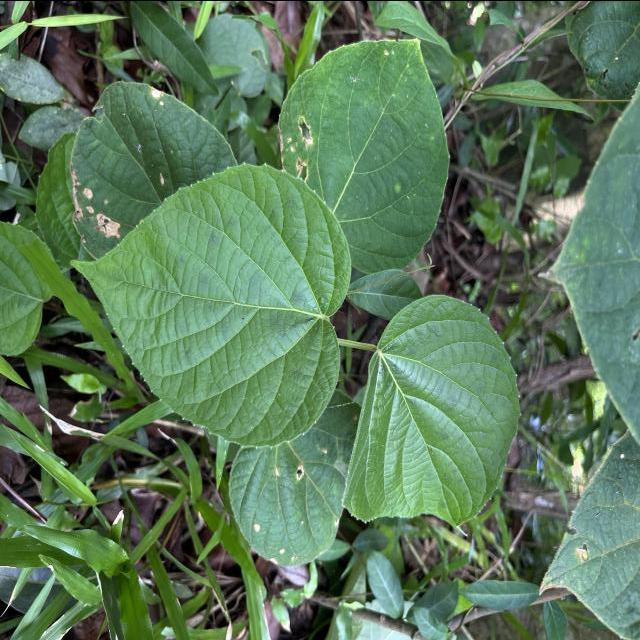Clerodendrum infortunatum: (68, 160, 353, 451), (340, 290, 523, 538), (275, 32, 452, 276)
